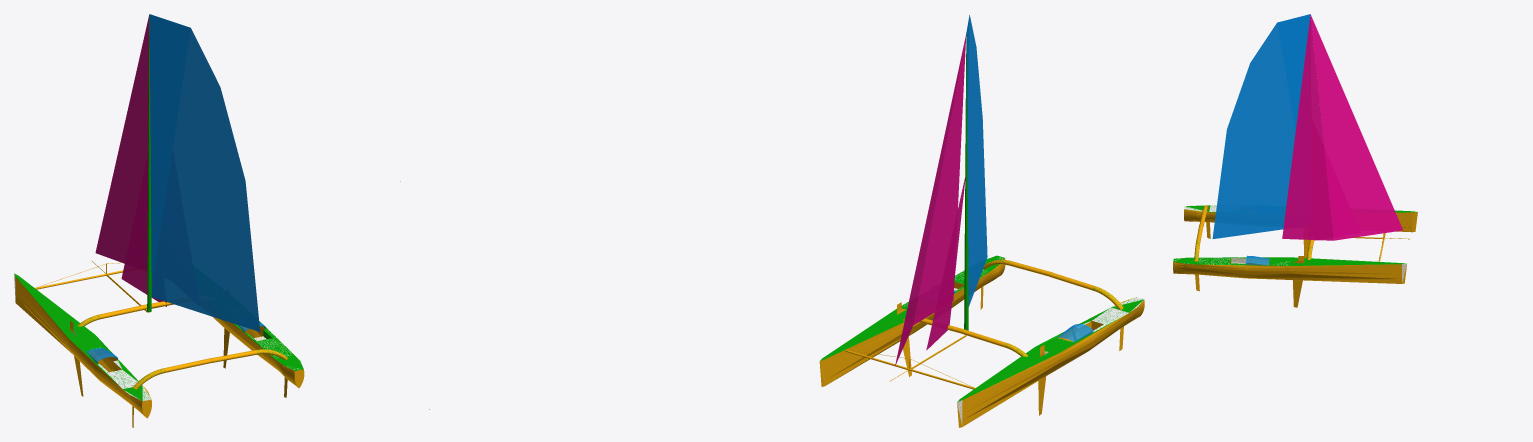
The model's file is genak_babord_catamaran.dae.
The picture shows the model from 3 angles, left to right: view 1: azimuth 30°, elevation 25°; view 2: azimuth 150°, elevation 25°; view 3: azimuth 270°, elevation 25°; orthographic projection. The views are drawn at different scales.
Visible parts, largest first — view 1: SketchUp (×10); view 2: SketchUp (×10); view 3: SketchUp (×6).
Boxes of the visible parts, x1=… form: SketchUp (×10): x1=14, y1=14, x2=304, y2=418; SketchUp (×10): x1=819, y1=15, x2=1144, y2=427; SketchUp (×6): x1=1173, y1=14, x2=1417, y2=283.
Bounding box in the file's own units: 188600 × 156303 × 135617.
Materials: 14 (5 with a texture image).
